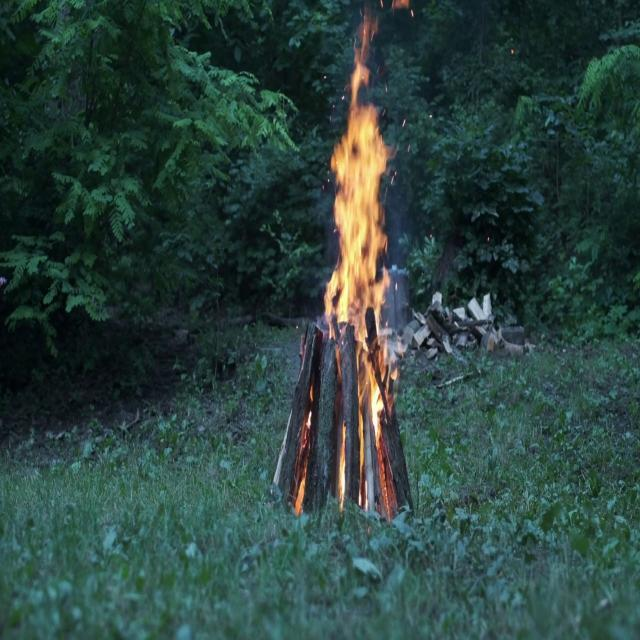Fire: (309, 32, 405, 436)
